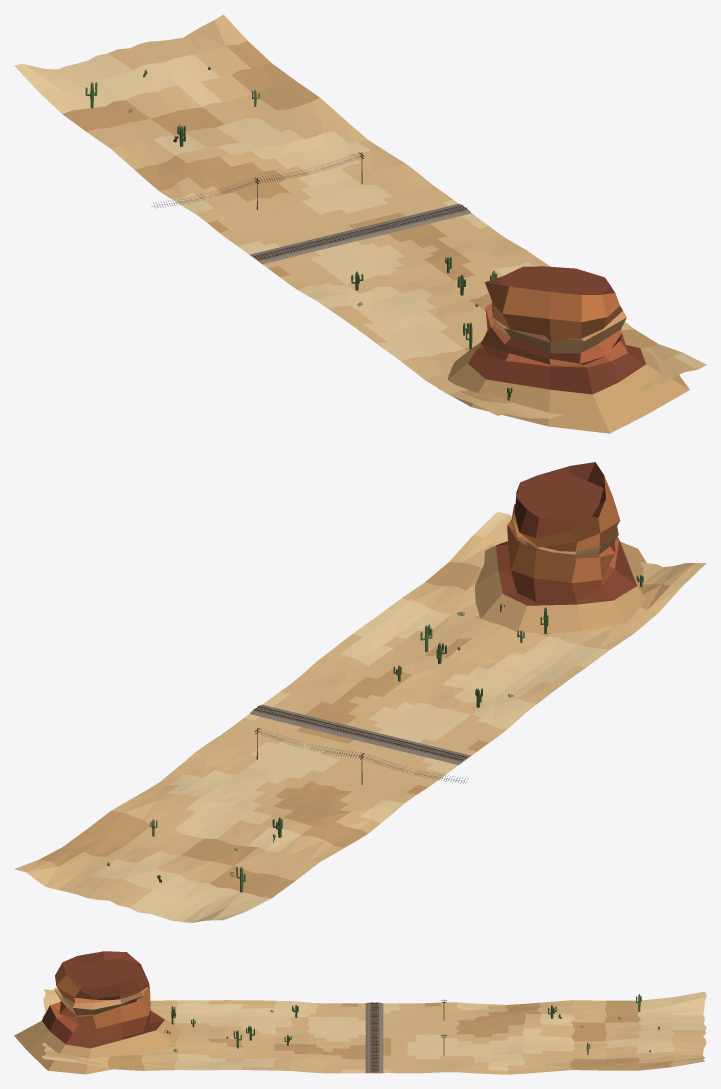
File: SM_FG_Chunk_Flat_B.fbx
3 views of the same model, one above another, from view 1: azimuth 30°, elevation 25°; view 2: azimuth 150°, elevation 25°; view 3: azimuth 270°, elevation 25° (orthographic). The views are drawn at different scales.
Parts seen in each view (by area): view 1: FG_Chunk_Flat_B_Ground, FG_Chunk_Flat_B_SceneryMid, FG_Chunk_Flat_B_Track, FG_Chunk_Flat_B_SceneryNear; view 2: FG_Chunk_Flat_B_Ground, FG_Chunk_Flat_B_SceneryMid, FG_Chunk_Flat_B_Track, FG_Chunk_Flat_B_SceneryNear; view 3: FG_Chunk_Flat_B_Ground, FG_Chunk_Flat_B_SceneryMid, FG_Chunk_Flat_B_Track, FG_Chunk_Flat_B_SceneryNear.
Boxes of the visible parts, bbox=[...] form: FG_Chunk_Flat_B_Ground: bbox=[14, 14, 706, 418]; FG_Chunk_Flat_B_SceneryMid: bbox=[438, 266, 689, 433]; FG_Chunk_Flat_B_Track: bbox=[250, 204, 471, 264]; FG_Chunk_Flat_B_SceneryNear: bbox=[85, 67, 512, 400]; FG_Chunk_Flat_B_Ground: bbox=[14, 512, 706, 922]; FG_Chunk_Flat_B_SceneryMid: bbox=[475, 462, 646, 633]; FG_Chunk_Flat_B_Track: bbox=[250, 704, 470, 764]; FG_Chunk_Flat_B_SceneryNear: bbox=[107, 575, 643, 892]; FG_Chunk_Flat_B_Ground: bbox=[42, 989, 706, 1074]; FG_Chunk_Flat_B_SceneryMid: bbox=[14, 951, 181, 1074]; FG_Chunk_Flat_B_Track: bbox=[365, 1002, 383, 1072]; FG_Chunk_Flat_B_SceneryNear: bbox=[165, 994, 659, 1055].
Bounding box in the file's own units: 6250 × 20951 × 2530.
